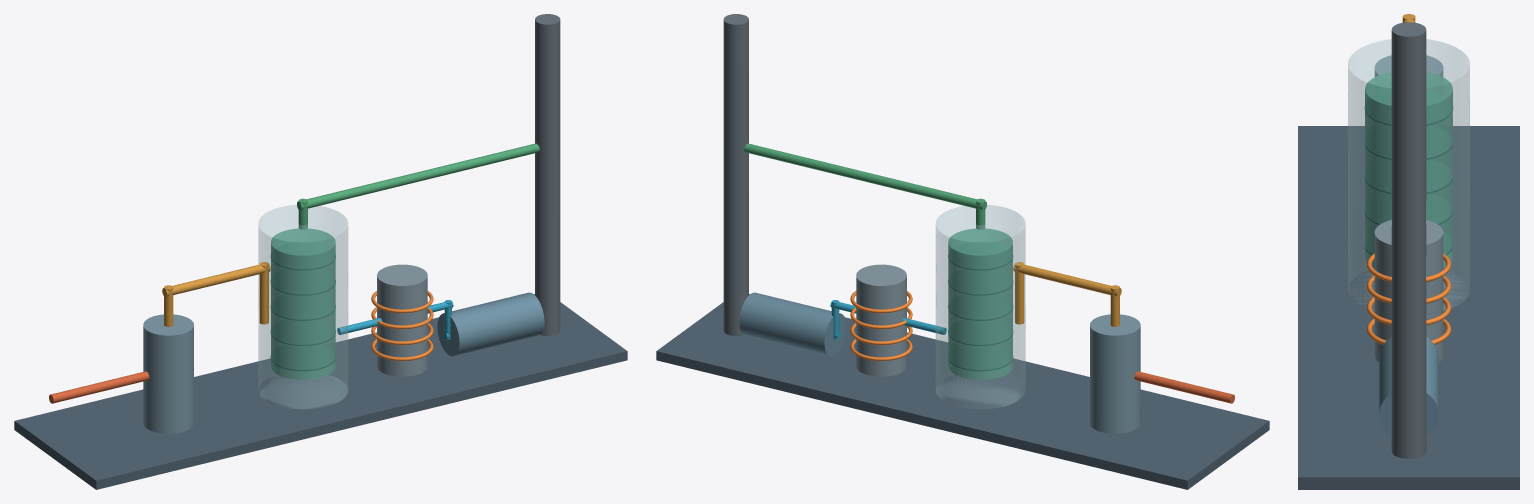
The model's file is carbon_capture_system.glb.
3 renders of one model, left to right at view 1: azimuth 30°, elevation 25°; view 2: azimuth 150°, elevation 25°; view 3: azimuth 270°, elevation 25°, orthographic. The views are drawn at different scales.
Visible parts, largest first — view 1: platform, adsorber_shell, adsorbent_bed_media, stack, adsorbent_bed_strata, pretreatment, regeneration_vessel, co2_tank, treated_gas_pipe, pretreat_to_adsorber_pipe, heating_coil, flue_gas_inlet; view 2: platform, adsorber_shell, adsorbent_bed_media, stack, adsorbent_bed_strata, pretreatment, regeneration_vessel, co2_tank, treated_gas_pipe, pretreat_to_adsorber_pipe, heating_coil, flue_gas_inlet; view 3: platform, adsorber_shell, stack, adsorbent_bed_media, adsorbent_bed_strata, regeneration_vessel, co2_tank, heating_coil, pretreatment.
Boxes of the visible parts, x1,y1,x2,y2 form: platform: (14,294,627,489); adsorber_shell: (258,205,348,408); adsorbent_bed_media: (271,228,335,379); stack: (535,14,560,335); adsorbent_bed_strata: (270,242,335,371); pretreatment: (143,314,193,433); regeneration_vessel: (377,264,427,376); co2_tank: (437,292,544,356); treated_gas_pipe: (297,143,539,229); pretreat_to_adsorber_pipe: (162,262,270,326); heating_coil: (371,291,433,360); flue_gas_inlet: (49,371,149,403); platform: (656,294,1269,489); adsorber_shell: (935,205,1025,408); adsorbent_bed_media: (948,228,1012,379); stack: (723,14,748,335); adsorbent_bed_strata: (948,242,1013,371); pretreatment: (1090,314,1140,433); regeneration_vessel: (856,264,906,376); co2_tank: (739,292,846,356); treated_gas_pipe: (744,143,986,229); pretreat_to_adsorber_pipe: (1013,262,1121,326); heating_coil: (850,291,912,360); flue_gas_inlet: (1134,371,1234,403); platform: (1298,126,1519,489); adsorber_shell: (1348,39,1469,310); stack: (1391,22,1426,458); adsorbent_bed_media: (1365,72,1452,268); adsorbent_bed_strata: (1364,91,1453,255); regeneration_vessel: (1374,220,1443,362); co2_tank: (1379,337,1438,436); heating_coil: (1367,253,1450,344); pretreatment: (1374,55,1443,76).
Size of the model in its own units: 15.11 by 8.65 by 4.
